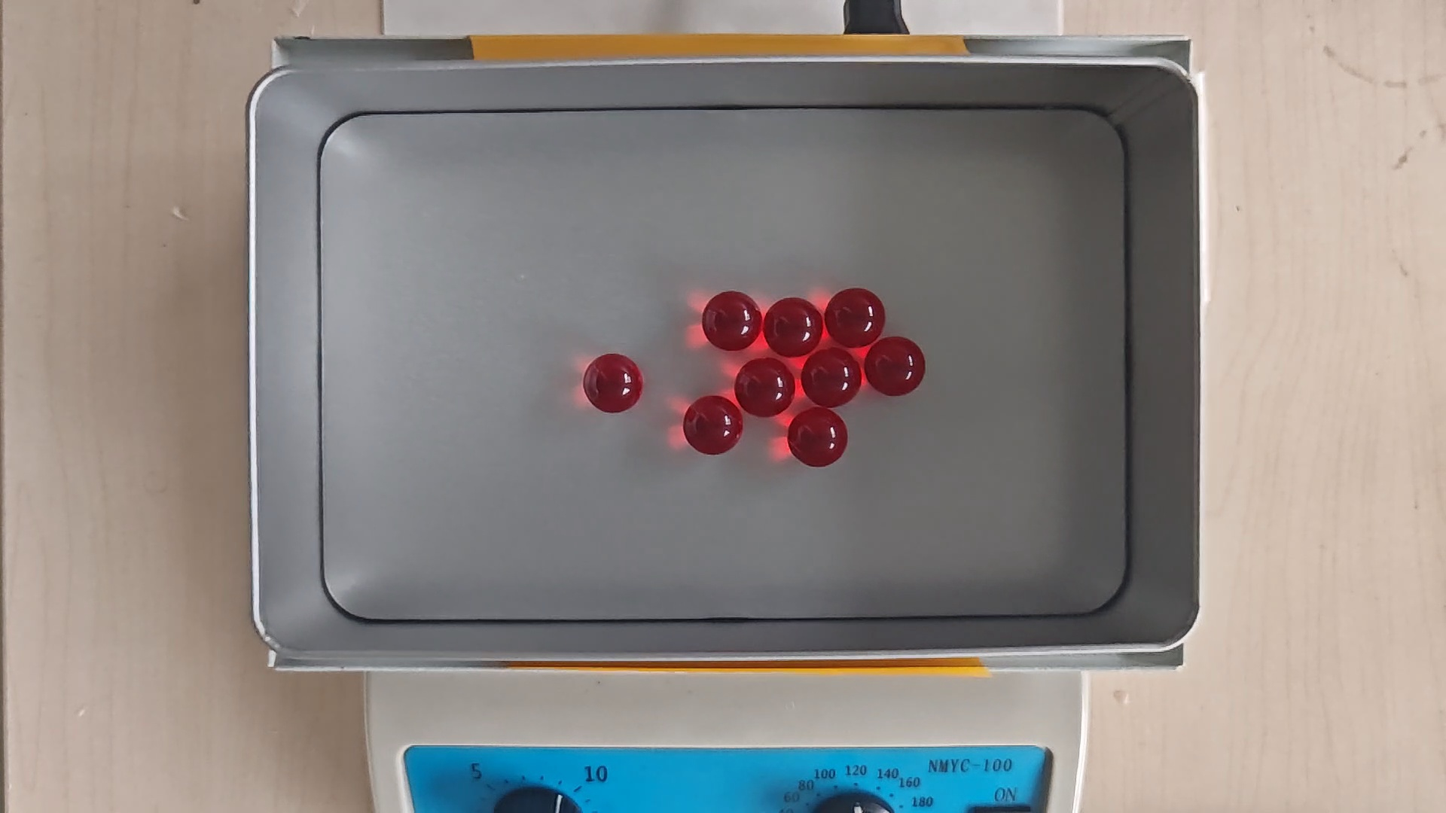ball: (583, 353, 644, 415), (865, 335, 925, 398), (735, 357, 796, 418), (683, 394, 743, 455), (790, 407, 849, 469), (802, 348, 862, 408), (764, 297, 823, 358), (702, 290, 760, 351), (826, 288, 885, 347)
container: (320, 108, 1127, 620)
